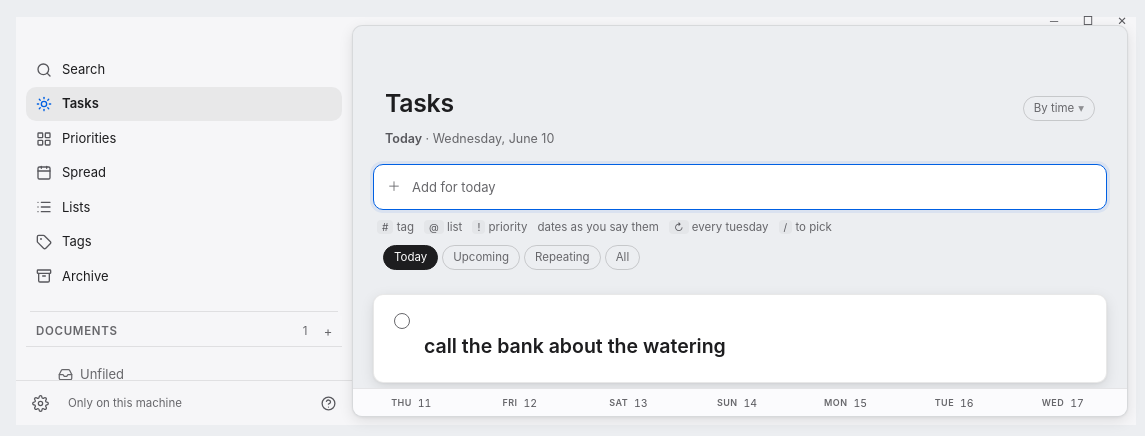
Test: a search that reaches the documents › says the hits are in documents instead of claiming nothing matched
Expected: the heading "call the bank about the watering" is shown, [424,334,726,358]
Step 1. Click the button "Search" → (84, 69), box [26,53,342,86]
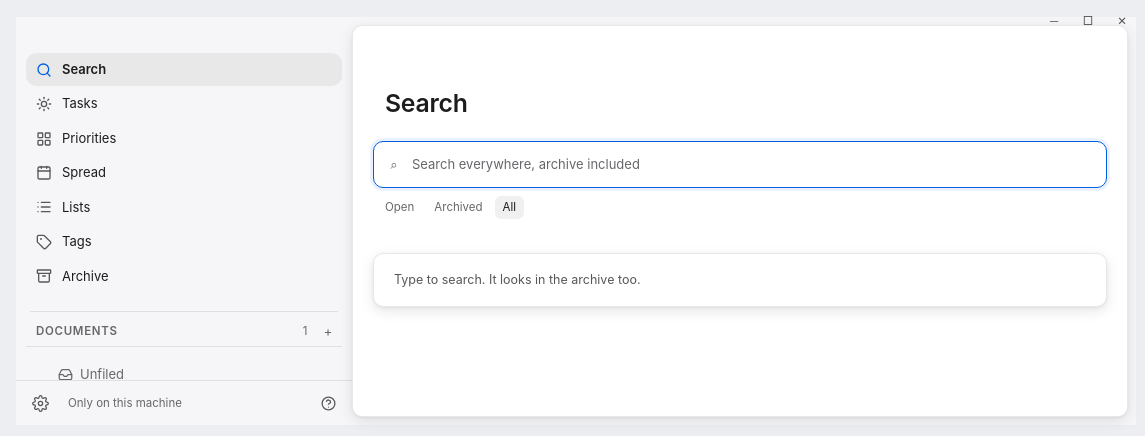
Step 2. Type "hose" into the field labelled "Search everywhere, archive included" → (753, 164), box [412,154,1094,174]
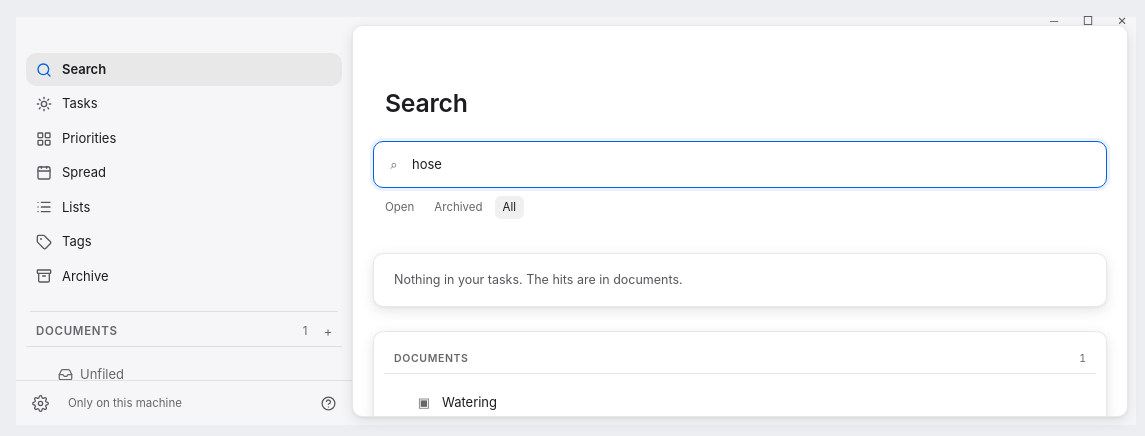
Now the text "Nothing in your tasks. The hits are in documents." is shown, box [373,253,1107,307]
